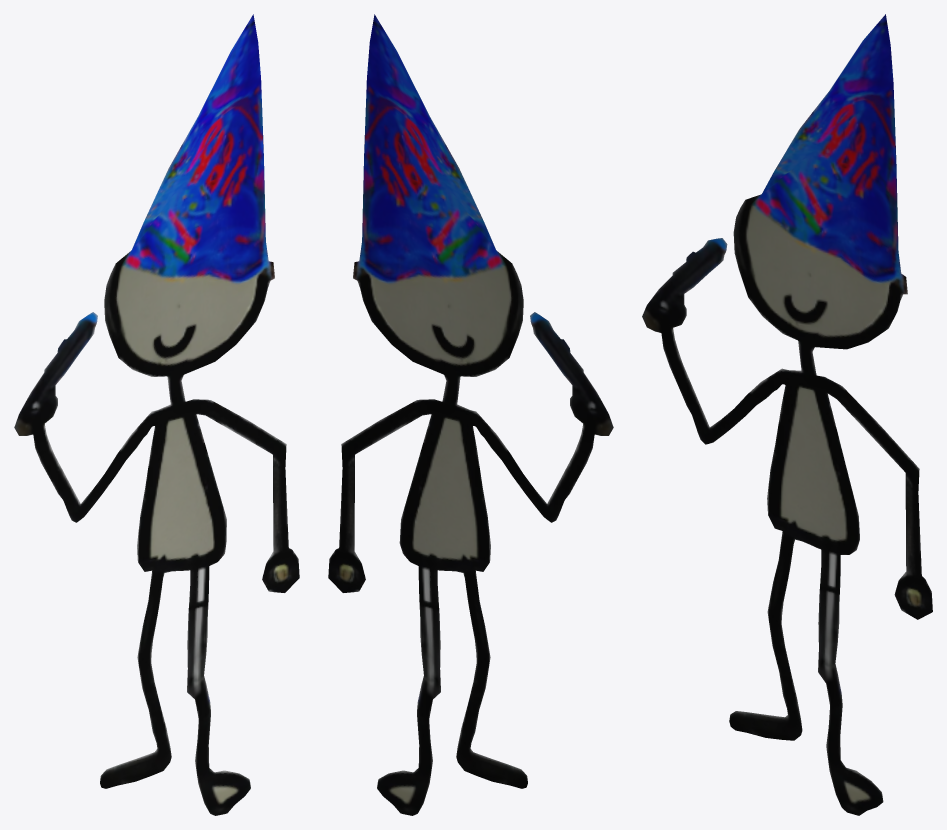
Rendered from minrap.glb.
The picture shows the model from 3 angles, left to right: view 1: azimuth 30°, elevation 25°; view 2: azimuth 150°, elevation 25°; view 3: azimuth 330°, elevation 25°; orthographic projection.
Visible parts, largest first — view 1: Plane; view 2: Plane; view 3: Plane.
Part boxes in pixels (x1,y1,x2,y2): Plane: (14, 14, 299, 815); Plane: (328, 14, 613, 815); Plane: (642, 14, 932, 815).
Bounding box in the file's own units: 1.9 × 5.05 × 0.0102.
Materials: 1 (1 with a texture image).
